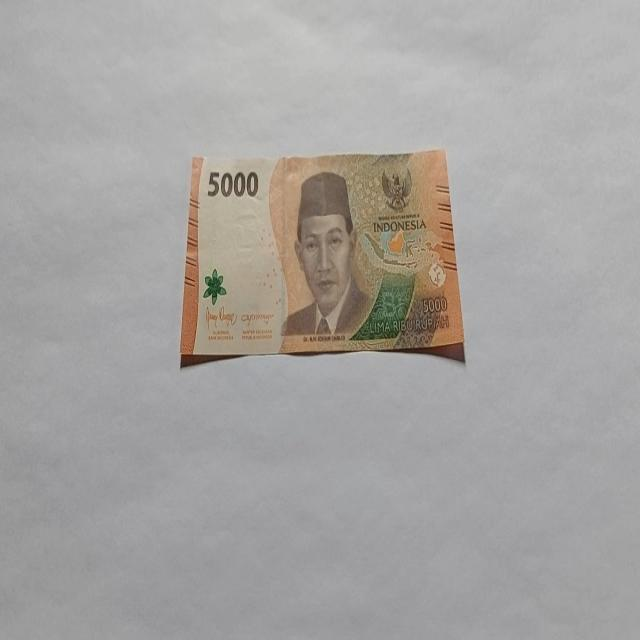lima ribu rupiah: (178, 148, 466, 366), (280, 170, 373, 340)
